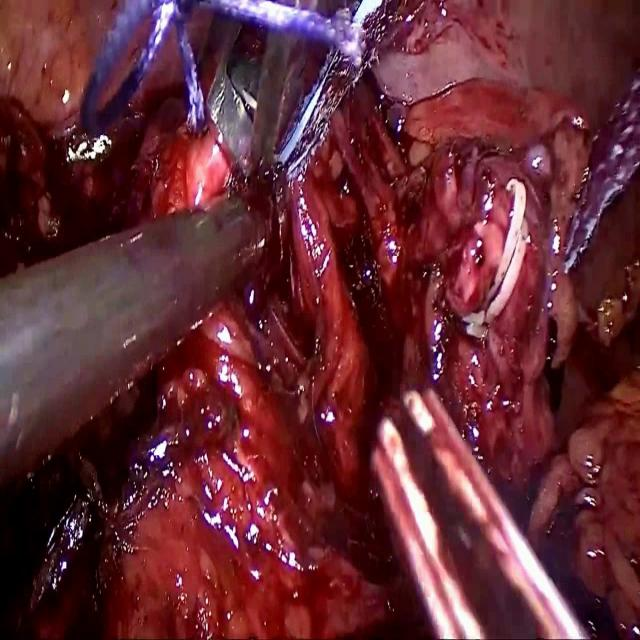surgical-tool: (0, 185, 275, 492), (368, 391, 592, 639)
